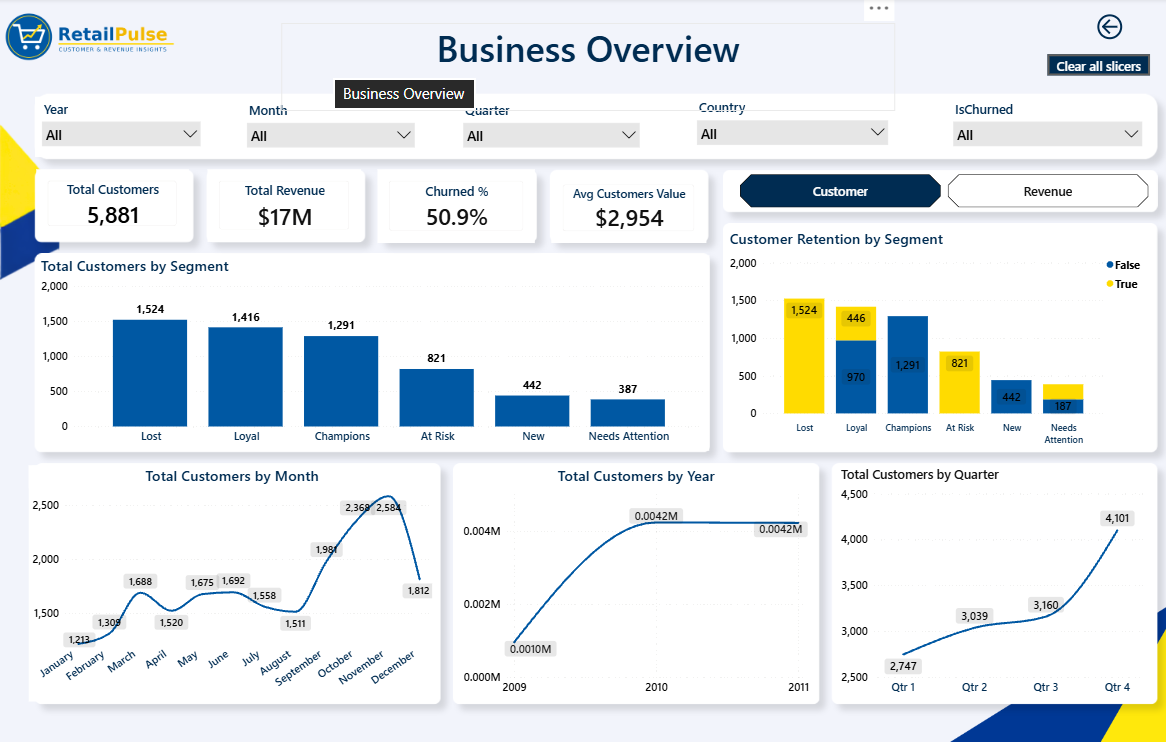

What the dashboard file says about the page in this screenshot:
{"tool":"powerbi","page":{"name":"Overview","canvas":[1750,1100],"ordinal":0},"visuals":[{"type":"cardVisual","fields":{"Data":["Sheet1.Total Customers"]},"box":[53.5,252.5,224.9,101.4],"z":0},{"type":"columnChart","fields":{"Category":["Sheet1.Segment"],"Y":["Sheet1.Total Customers"]},"box":[55.7,379.1,990,288.3],"z":0,"group":"g1"},{"type":"cardVisual","fields":{"Data":["Sheet1.Total Revenue"]},"box":[306,252.5,226.7,106.9],"z":1000},{"type":"lineChart","fields":{"Category":["Sheet1.InvoiceMonth.Variation.Date Hierarchy.Month"],"Y":["Sheet1.Total Customers"]},"box":[42.4,689.1,600,348.3],"z":1000,"group":"g1"},{"type":"cardVisual","fields":{"Data":["Sheet1.Churned %"]},"box":[556.6,252.5,232.2,108.7],"z":2000},{"type":"lineChart","fields":{"Category":["Sheet1.InvoiceMonth.Variation.Date Hierarchy.Year"],"Y":["Sheet1.Total Customers"]},"box":[677.4,689.1,520,348.3],"z":2000,"group":"g1"},{"type":"cardVisual","fields":{"Data":["Sheet1.Avg Customers Value"]},"box":[812.8,258,228.6,103.2],"z":3000},{"type":"lineChart","fields":{"Category":["Sheet1.InvoiceMonth.Variation.Date Hierarchy.Quarter"],"Y":["Sheet1.Total Customers"]},"box":[1234.1,689.1,460,348.3],"z":3000,"group":"g1"},{"type":"slicer","fields":{"Values":["Sheet1.InvoiceDate.Variation.Date Hierarchy.Year"]},"box":[51.6,145.6,254.4,88.5],"z":4000},{"type":"columnChart","title":"Customer Retention by Segment","fields":{"Category":["Sheet1.Segment"],"Series":["Sheet1.IsChurned"],"Y":["Sheet1.Total Customers"]},"box":[1071.4,339.1,624,328],"z":4000,"group":"g1"},{"type":"slicer","fields":{"Values":["Sheet1.InvoiceDate.Variation.Date Hierarchy.Month"]},"box":[353.9,147.5,267.3,86.6],"z":5000},{"type":"slicer","fields":{"Values":["Sheet1.InvoiceDate.Variation.Date Hierarchy.Quarter"]},"box":[672.8,147.5,280.2,82.9],"z":6000},{"type":"slicer","fields":{"Values":["Sheet1.Country"]},"box":[1017.4,143.8,302.3,88.5],"z":7000},{"type":"slicer","fields":{"Values":["Sheet1.IsChurned"]},"box":[1395.3,145.6,298.6,84.8],"z":8000},{"type":"group","id":"g1","title":"Customer","box":[42.4,339.1,1651.5,696.7],"z":9000},{"type":"bookmarkNavigator","box":[1091.2,259.9,602.7,49.8],"z":11000},{"type":"image","box":[0,0,289.4,114.3],"z":12000},{"type":"textbox","title":"Business Overview","box":[414.7,36.9,905,129],"z":13000},{"type":"actionButton","box":[1561.2,0,151.1,84.8],"z":14000},{"type":"actionButton","box":[1544.6,82.9,151.1,31.3],"z":15000}]}

Visuals, with their boxes in screenshot pixels (x1, y1, x2, y2), scaled from the page's 1750x1100 canvas onto the 1166x742 screenshot:
cardVisual - Sheet1.Total Customers: {"x1": 36, "y1": 170, "x2": 185, "y2": 239}
columnChart - Sheet1.Segment x Sheet1.Total Customers: {"x1": 37, "y1": 256, "x2": 697, "y2": 450}
cardVisual - Sheet1.Total Revenue: {"x1": 204, "y1": 170, "x2": 355, "y2": 242}
lineChart - Sheet1.InvoiceMonth.Variation.Date Hierarchy.Month x Sheet1.Total Customers: {"x1": 28, "y1": 465, "x2": 428, "y2": 700}
cardVisual - Sheet1.Churned %: {"x1": 371, "y1": 170, "x2": 526, "y2": 244}
lineChart - Sheet1.InvoiceMonth.Variation.Date Hierarchy.Year x Sheet1.Total Customers: {"x1": 451, "y1": 465, "x2": 798, "y2": 700}
cardVisual - Sheet1.Avg Customers Value: {"x1": 542, "y1": 174, "x2": 694, "y2": 244}
lineChart - Sheet1.InvoiceMonth.Variation.Date Hierarchy.Quarter x Sheet1.Total Customers: {"x1": 822, "y1": 465, "x2": 1129, "y2": 700}
slicer - Sheet1.InvoiceDate.Variation.Date Hierarchy.Year: {"x1": 34, "y1": 98, "x2": 204, "y2": 158}
"Customer Retention by Segment" columnChart: {"x1": 714, "y1": 229, "x2": 1130, "y2": 450}
slicer - Sheet1.InvoiceDate.Variation.Date Hierarchy.Month: {"x1": 236, "y1": 99, "x2": 414, "y2": 158}
slicer - Sheet1.InvoiceDate.Variation.Date Hierarchy.Quarter: {"x1": 448, "y1": 99, "x2": 635, "y2": 155}
slicer - Sheet1.Country: {"x1": 678, "y1": 97, "x2": 879, "y2": 157}
slicer - Sheet1.IsChurned: {"x1": 930, "y1": 98, "x2": 1129, "y2": 155}
"Customer" group: {"x1": 28, "y1": 229, "x2": 1129, "y2": 699}
bookmarkNavigator: {"x1": 727, "y1": 175, "x2": 1129, "y2": 209}
image: {"x1": 0, "y1": 0, "x2": 193, "y2": 77}
"Business Overview" textbox: {"x1": 276, "y1": 25, "x2": 879, "y2": 112}
actionButton: {"x1": 1040, "y1": 0, "x2": 1141, "y2": 57}
actionButton: {"x1": 1029, "y1": 56, "x2": 1130, "y2": 77}
